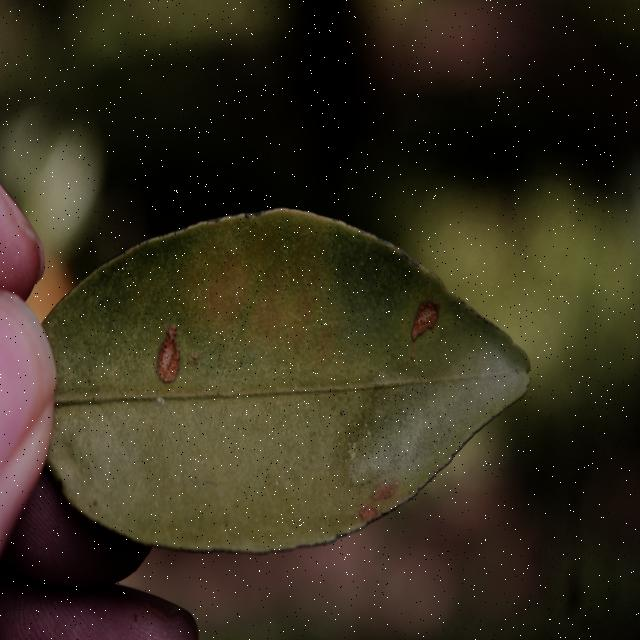canker: (128, 273, 440, 473)
